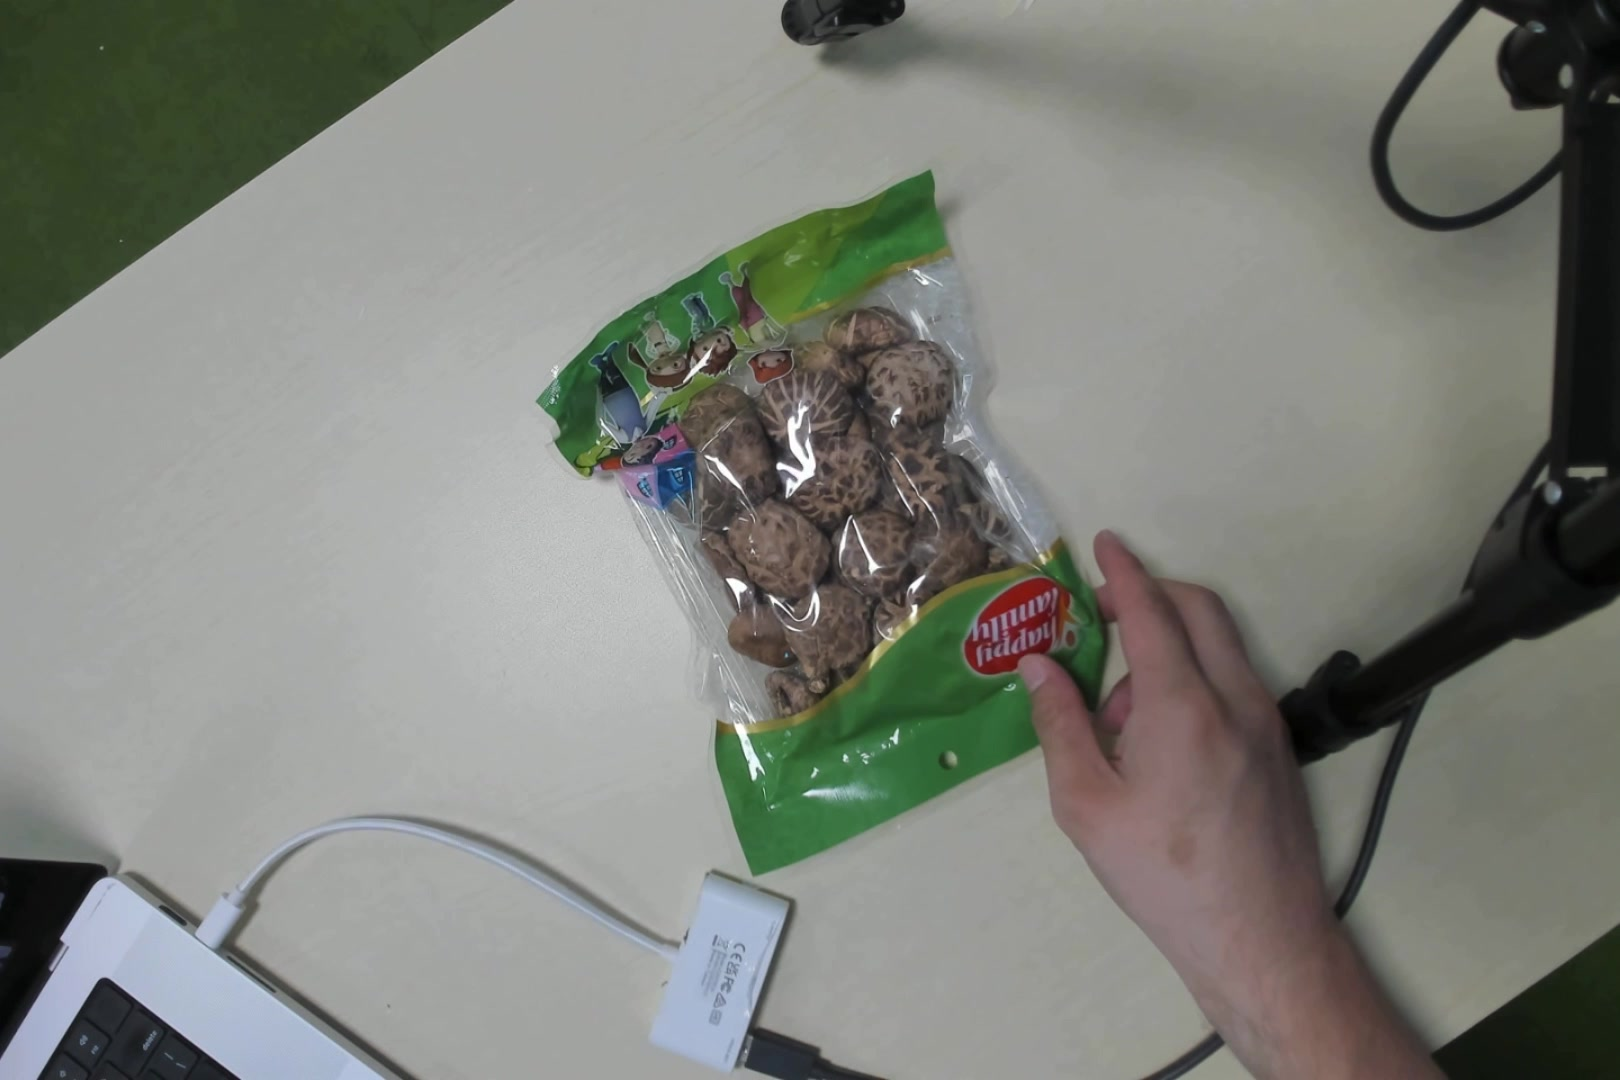OtherDriedFood_100-199g_NonHalal_NonHealthy: (634, 235, 1052, 794)
